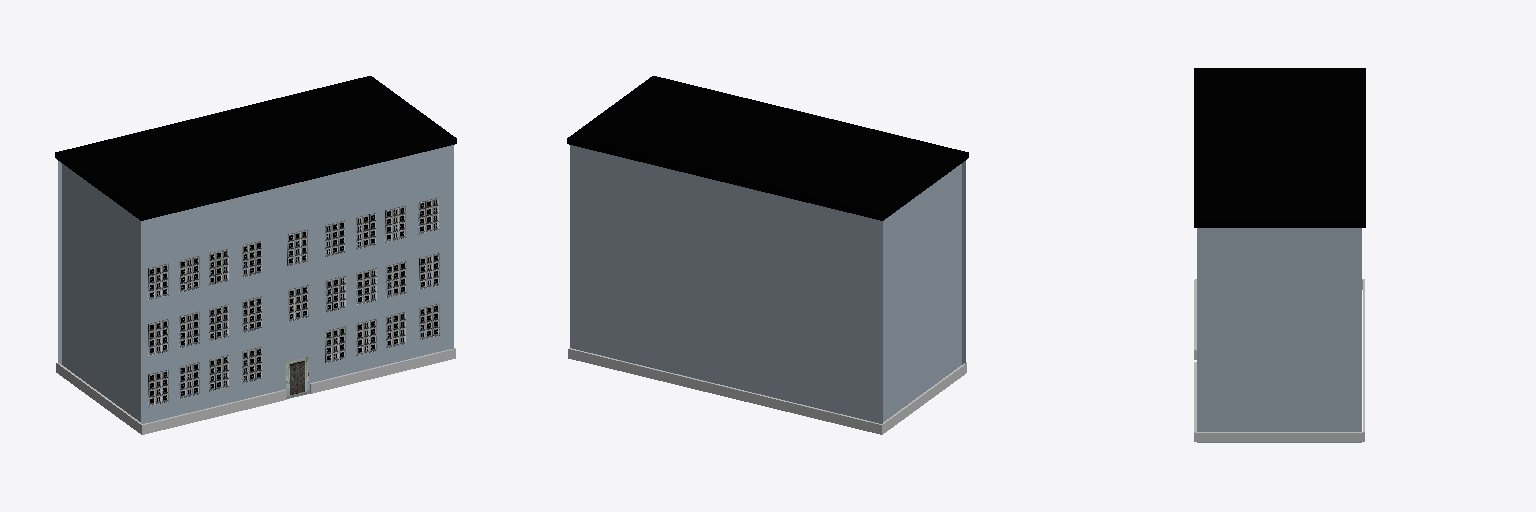
3 views of the same model, side by side, from view 1: azimuth 30°, elevation 25°; view 2: azimuth 150°, elevation 25°; view 3: azimuth 270°, elevation 25° (orthographic).
Parts seen in each view (by area): view 1: Plane.002_Plane.003, Roofing_Cube.006, Windows.020_Plane.022, Foundation_Cube.002, Door_Plane; view 2: Plane.002_Plane.003, Roofing_Cube.006, Foundation_Cube.002; view 3: Plane.002_Plane.003, Roofing_Cube.006, Foundation_Cube.002.
Part boxes in pixels (x1,y1,x2,y2): Plane.002_Plane.003: (58, 145, 453, 423); Roofing_Cube.006: (55, 76, 456, 220); Windows.020_Plane.022: (148, 197, 439, 406); Foundation_Cube.002: (56, 348, 455, 434); Door_Plane: (286, 357, 308, 398); Plane.002_Plane.003: (570, 145, 965, 423); Roofing_Cube.006: (567, 76, 968, 220); Foundation_Cube.002: (568, 348, 966, 434); Plane.002_Plane.003: (1197, 228, 1361, 442); Roofing_Cube.006: (1194, 68, 1365, 227); Foundation_Cube.002: (1194, 279, 1364, 441).
Size of the model in its own units: 30.48 by 20.41 by 14.37.
5 materials, 3 textured.